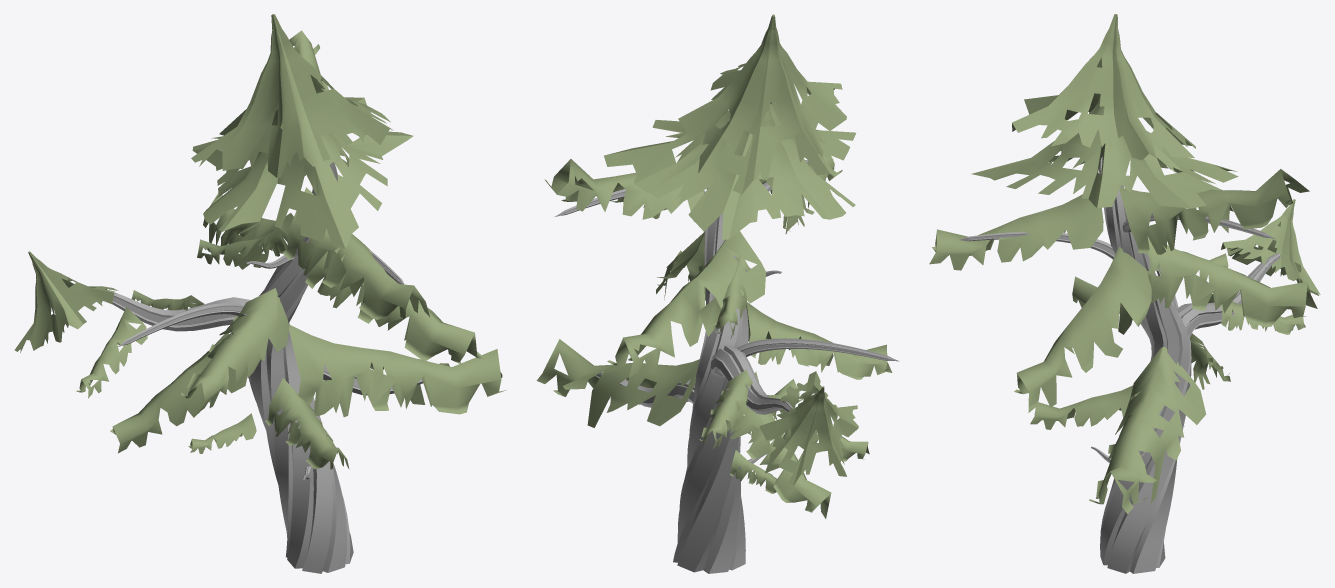
Rendered from wholeasstree.fbx.
The picture shows the model from 3 angles, left to right: view 1: azimuth 30°, elevation 25°; view 2: azimuth 150°, elevation 25°; view 3: azimuth 270°, elevation 25°; orthographic projection. The views are drawn at different scales.
Visible parts, largest first — view 1: polySurface48; view 2: polySurface48; view 3: polySurface48.
Part boxes in pixels (<box>): polySurface48: <box>14,14,506,573</box>; polySurface48: <box>536,14,899,573</box>; polySurface48: <box>929,14,1320,573</box>.
Size of the model in its own units: 1531 by 2052 by 1395.
